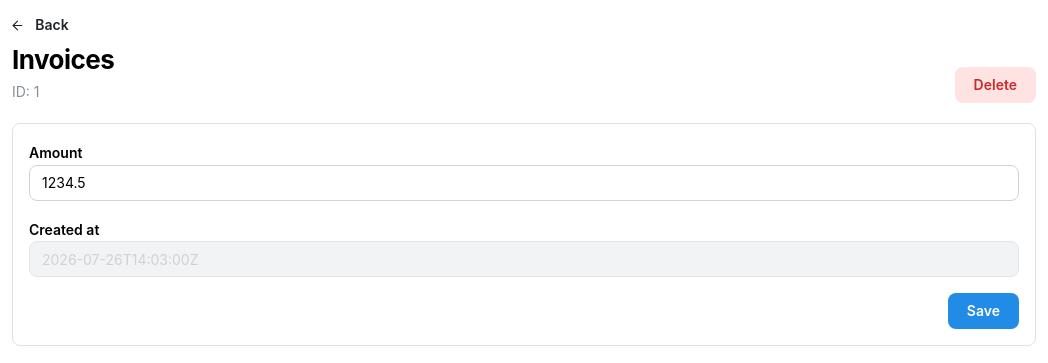
saving a detail row › shows the server's version of the row after saving, not the typed one
This screenshot has width=1048, height=363.
Step 1. Replace the text in the field labelled "Amount" with "99" → (524, 183), box 29,165 -> 1019,201
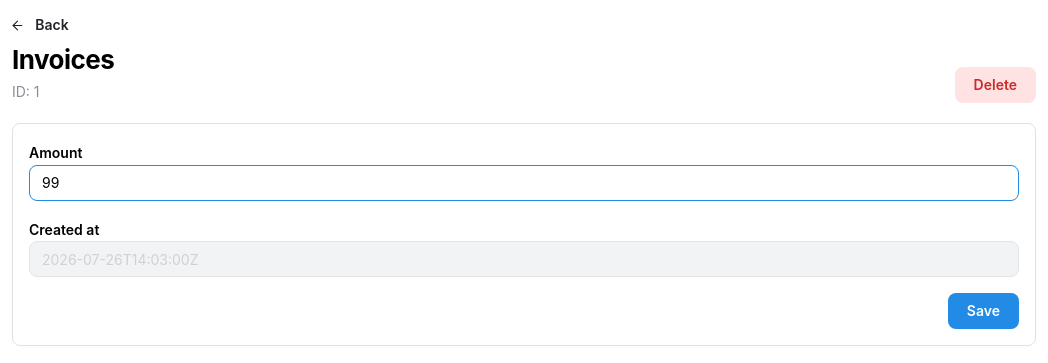
Step 2. Click the button "Save" → (983, 311), box 948,293 -> 1019,329
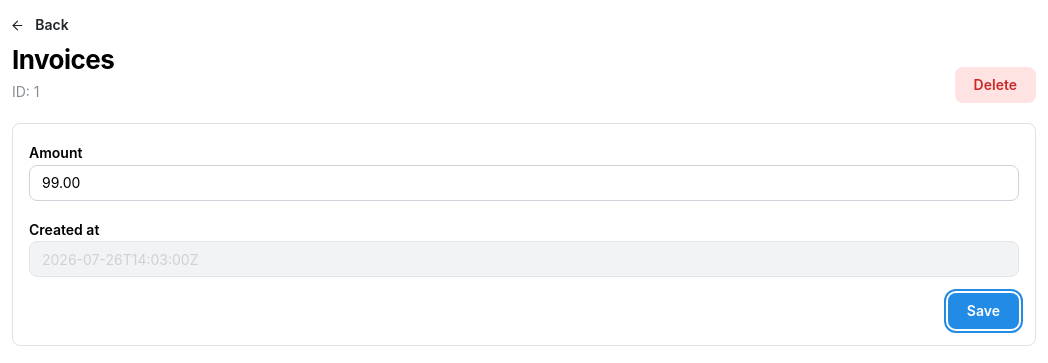
Expected: the field showing "99.00" is shown, 29,165 -> 1019,201
